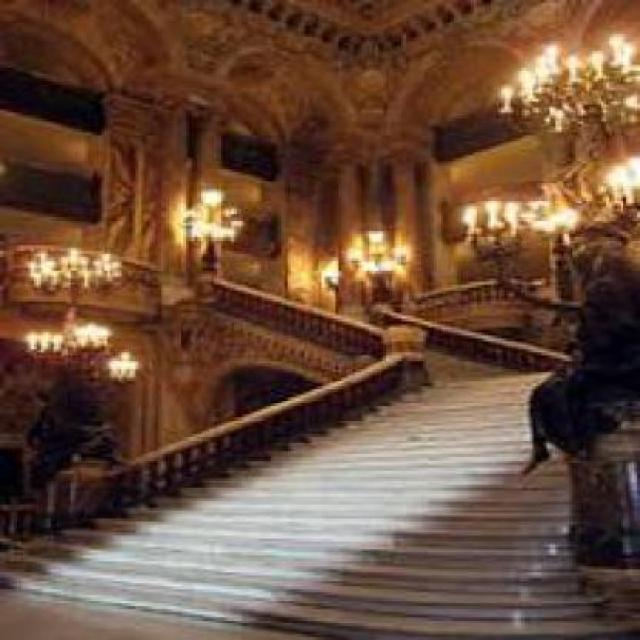stair: (142, 454, 558, 626)
